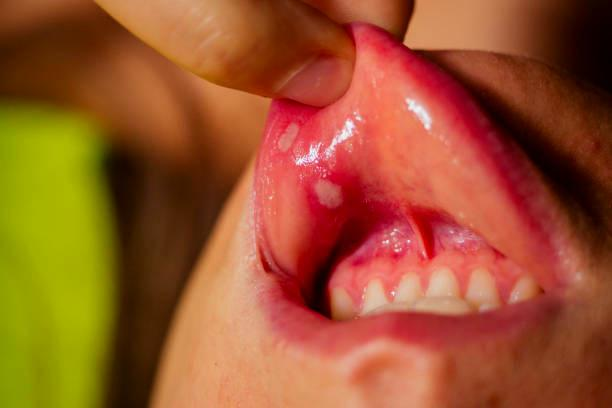Ulcer: (266, 104, 324, 166), (303, 162, 362, 221)
